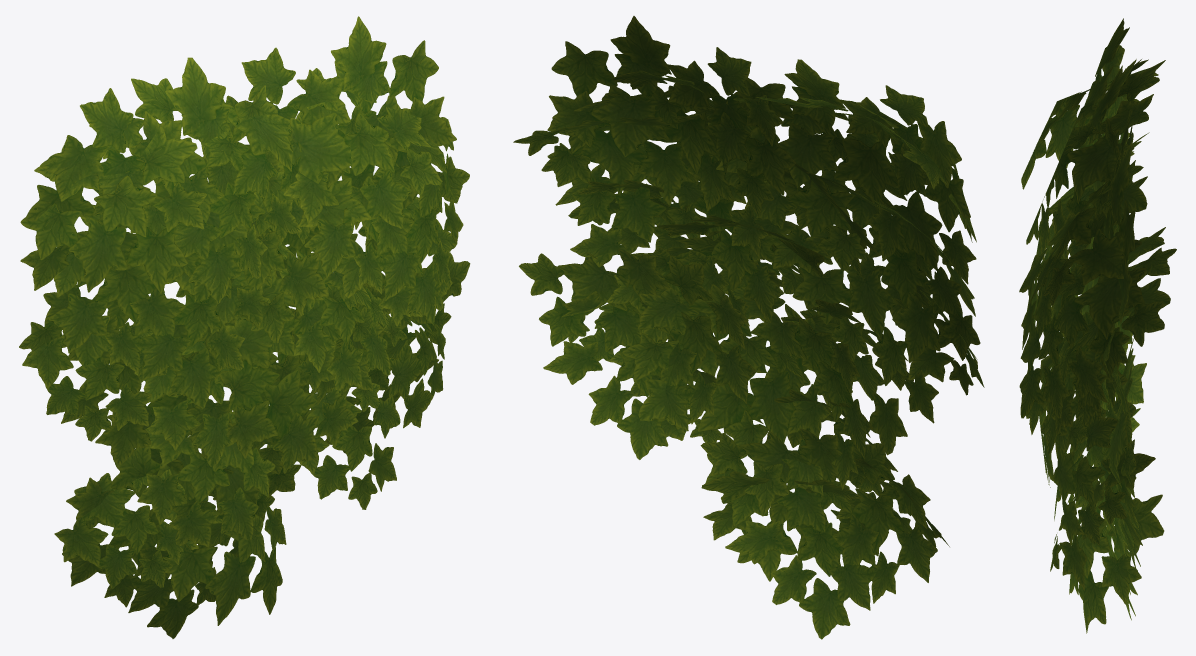
Rendered from MSH_fwOF_Ivy_Bushy_01.fbx.
3 views of the same model, side by side, from view 1: azimuth 30°, elevation 25°; view 2: azimuth 150°, elevation 25°; view 3: azimuth 270°, elevation 25° (orthographic).
Parts seen in each view (by area): view 1: MSH_fwOF_Ivy_Bushy_01_LOD0; view 2: MSH_fwOF_Ivy_Bushy_01_LOD0; view 3: MSH_fwOF_Ivy_Bushy_01_LOD0.
Part boxes in pixels (x1=…): MSH_fwOF_Ivy_Bushy_01_LOD0: x1=19, y1=16, x2=470, y2=638; MSH_fwOF_Ivy_Bushy_01_LOD0: x1=513, y1=16, x2=984, y2=639; MSH_fwOF_Ivy_Bushy_01_LOD0: x1=1019, y1=18, x2=1176, y2=633.
Size of what is drawn, in the model's own units: 1.02 by 1.22 by 0.3193.
